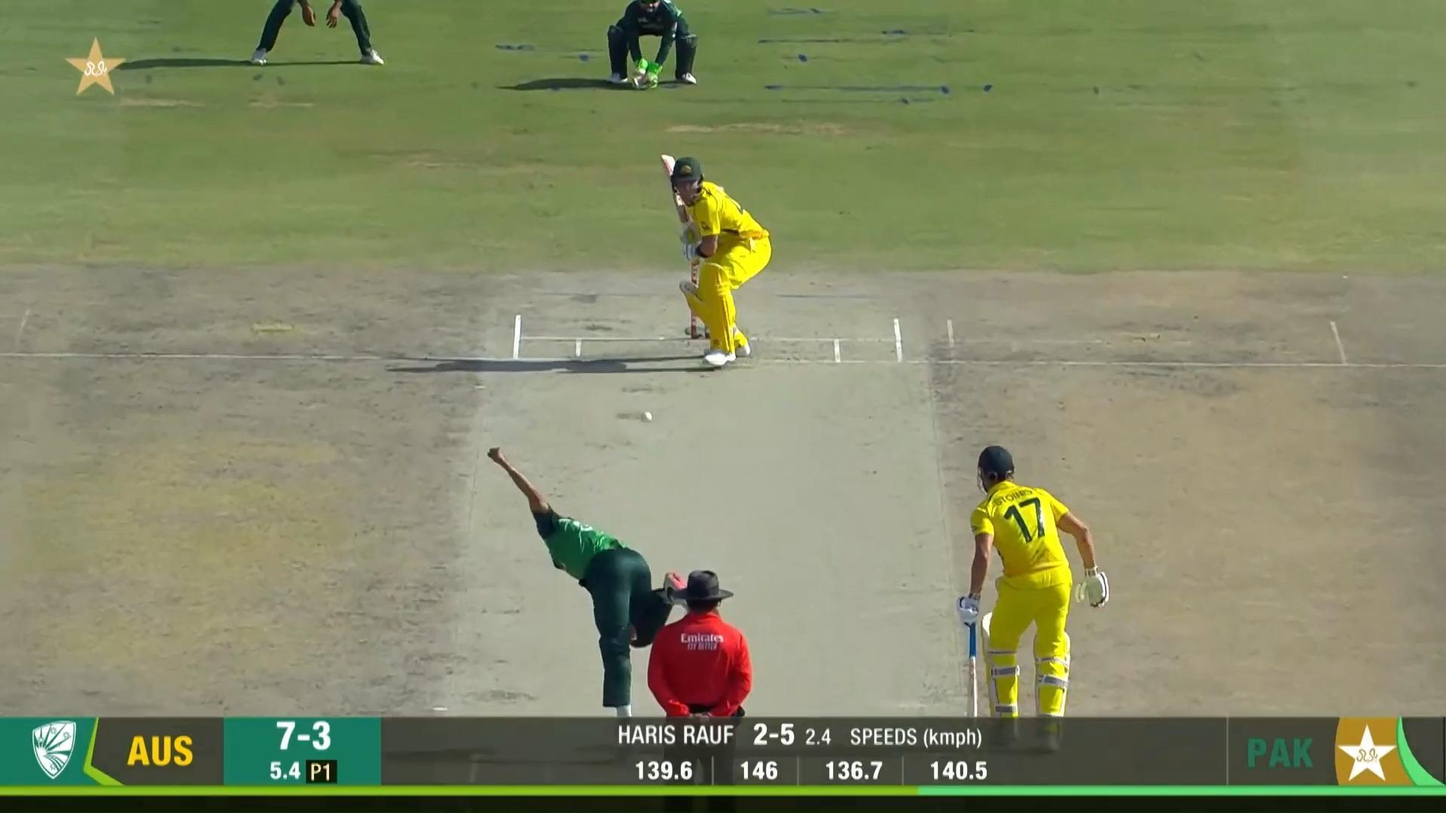BM 1: (660, 151, 773, 370)
BO: (488, 445, 688, 717)
